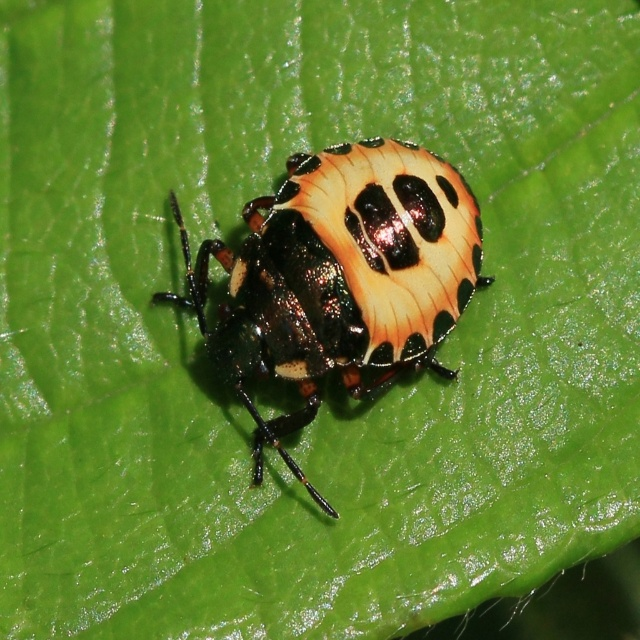Ladybug: (148, 137, 496, 520)
